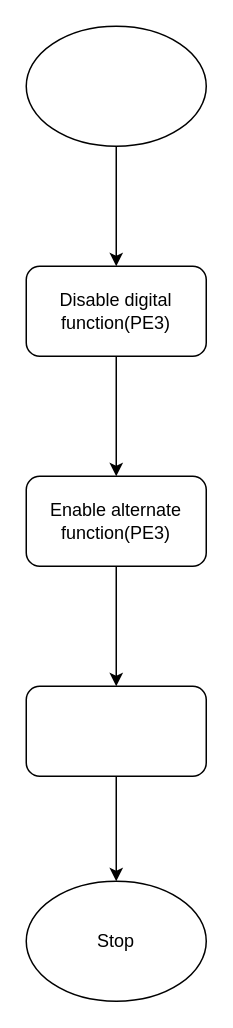
This 233x1028 diagram has some shape labels left out. The shapes that lost their labels are listed below. From the top down, each one's centre as x and y in pixels, then its label:
[115,85]: Start
[115,730]: Enable analog function(PE3)
